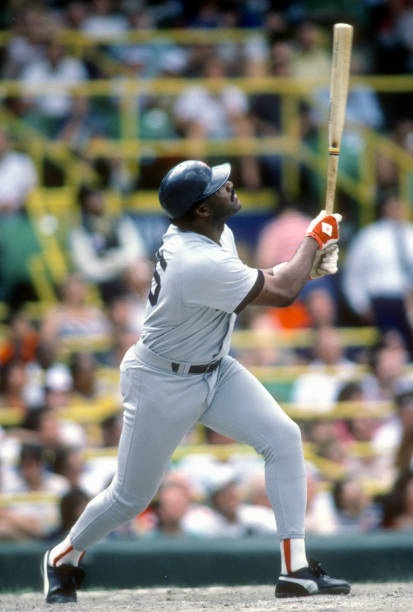bita: (307, 14, 351, 274)
